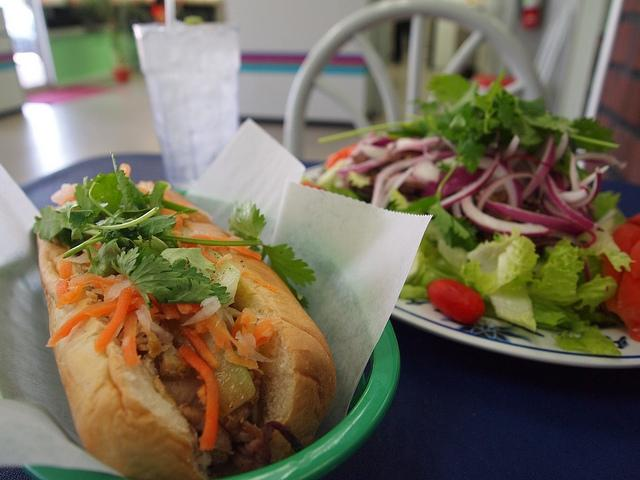lettuce: (529, 237, 617, 313), (460, 226, 540, 298), (444, 70, 504, 134), (576, 212, 636, 272), (484, 274, 537, 331), (552, 320, 622, 356), (423, 220, 468, 272), (443, 102, 483, 148), (302, 174, 362, 201), (165, 276, 215, 304), (426, 75, 472, 105), (522, 111, 580, 133), (589, 190, 622, 222), (69, 205, 94, 242), (134, 235, 168, 255), (150, 180, 168, 216)
onion: (435, 154, 523, 208), (460, 194, 554, 238), (485, 198, 585, 238), (543, 174, 604, 232), (372, 156, 424, 206), (521, 133, 555, 201), (441, 162, 486, 200), (210, 260, 240, 308), (235, 330, 272, 362), (356, 144, 406, 163), (390, 136, 440, 155), (574, 153, 628, 170), (555, 184, 590, 204), (412, 160, 440, 184), (108, 279, 135, 299), (479, 184, 506, 198), (200, 295, 218, 307), (452, 201, 462, 219)
tomato: (600, 222, 640, 316), (427, 279, 485, 325), (618, 240, 640, 324)
